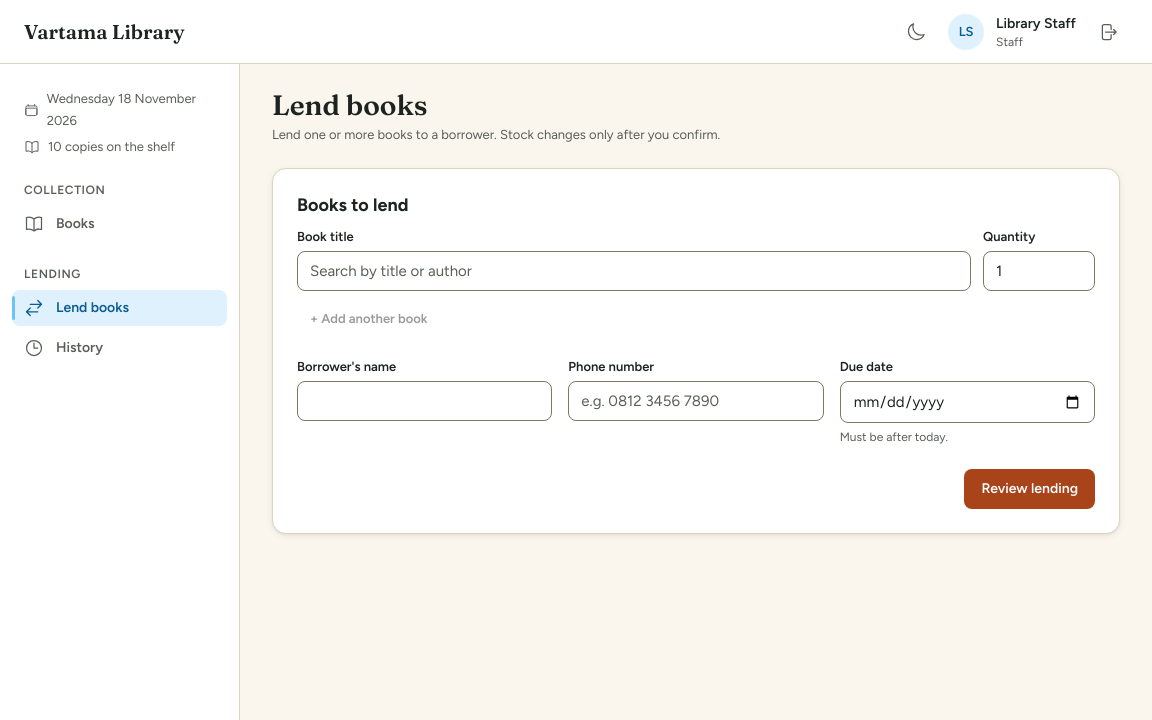
Test: Lending form (F6) › removes a line without moving the other line's book
Expected: the form named "Lend books" is shown, [272,168,1120,534]
Type "river" into the dropdown labelled "Book title".
click(634, 271); type("river")  # box [297,251,971,291]
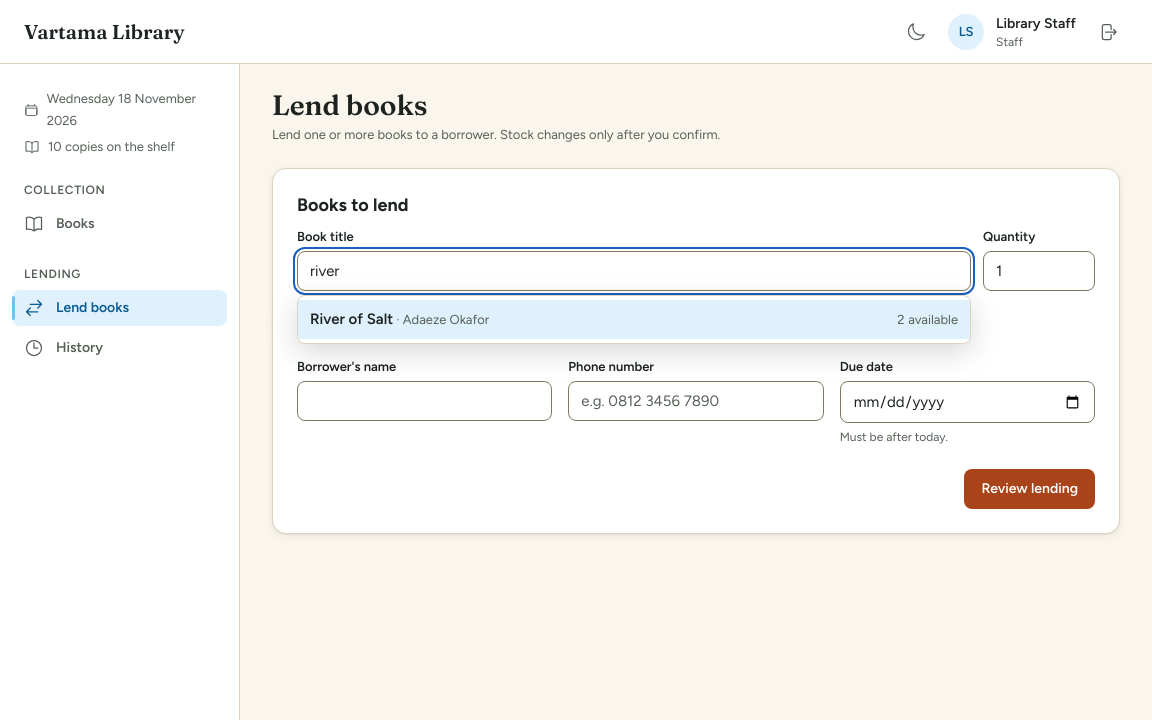
Expected: the number of options is 1
Click the option "River of Salt · Adaeze Okafor 2 available".
click(352, 319)  # box [298,300,970,339]
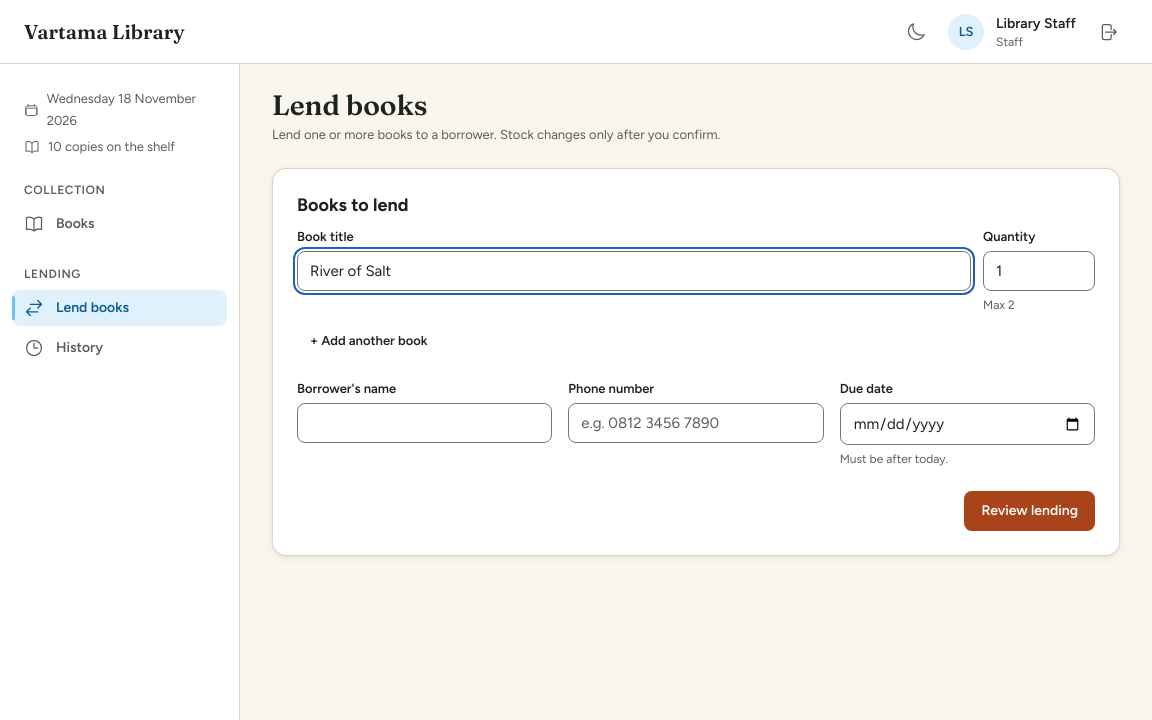
Click the button "+ Add another book".
click(369, 341)  # box [297,325,440,357]
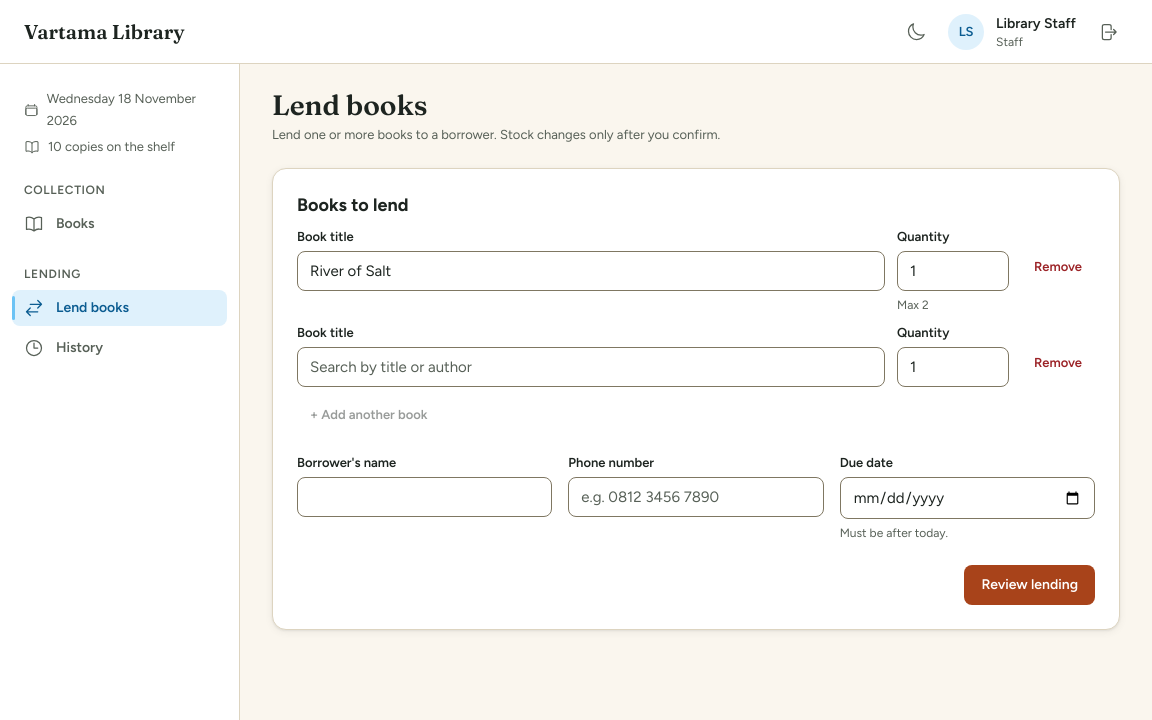
Type "harbour" into the 2nd dropdown labelled "Book title".
click(591, 367); type("harbour")  # box [297,347,885,387]
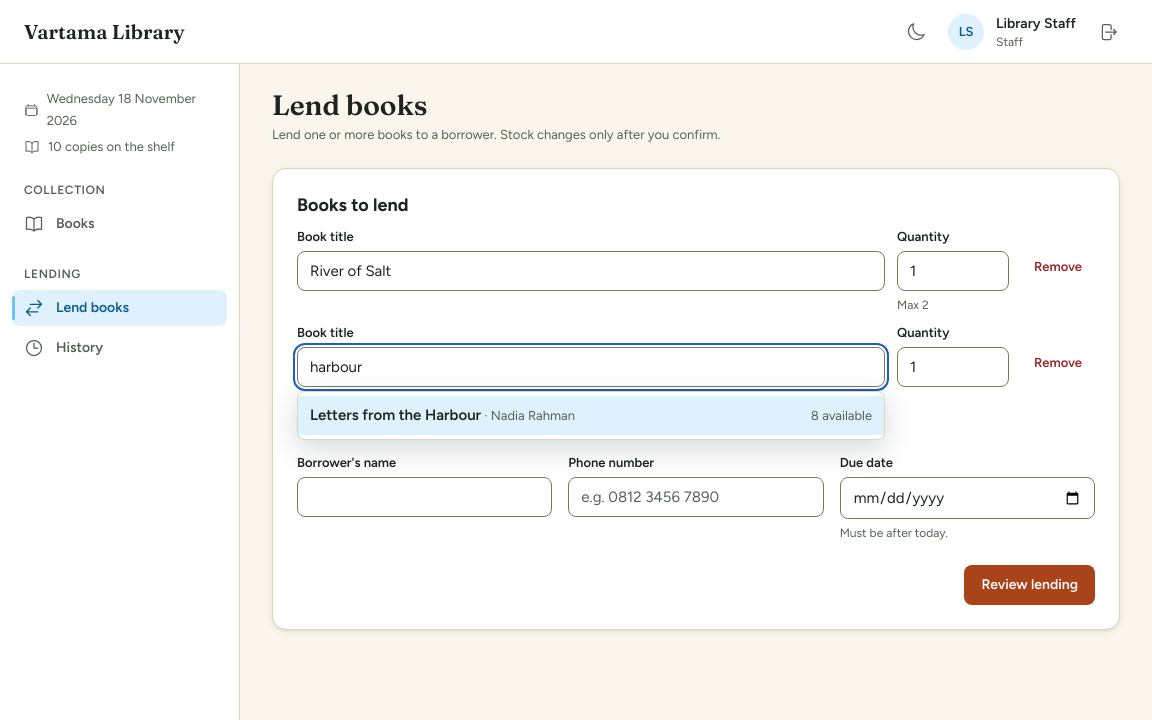
Expected: the number of options is 1
Click the option "Letters from the Harbour · Nadia Rahman 8 available".
click(396, 415)  # box [298,396,884,435]
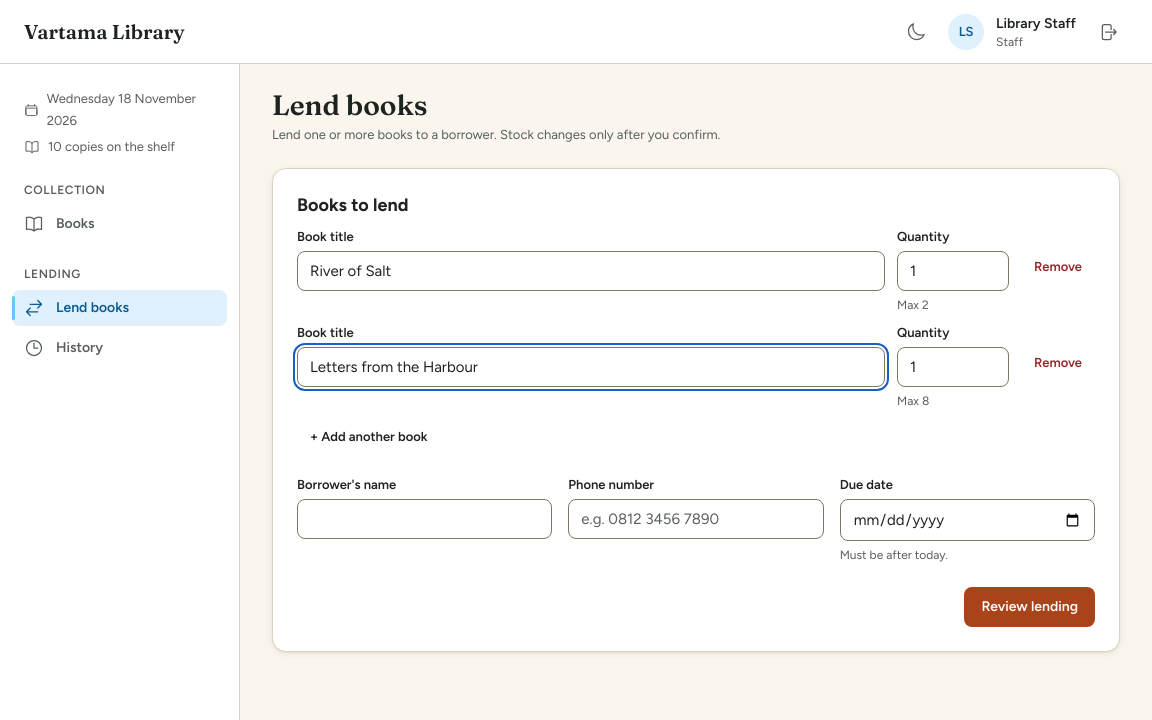
Click the button with aria-label "Remove line 1".
click(1058, 267)  # box [1021,251,1095,283]
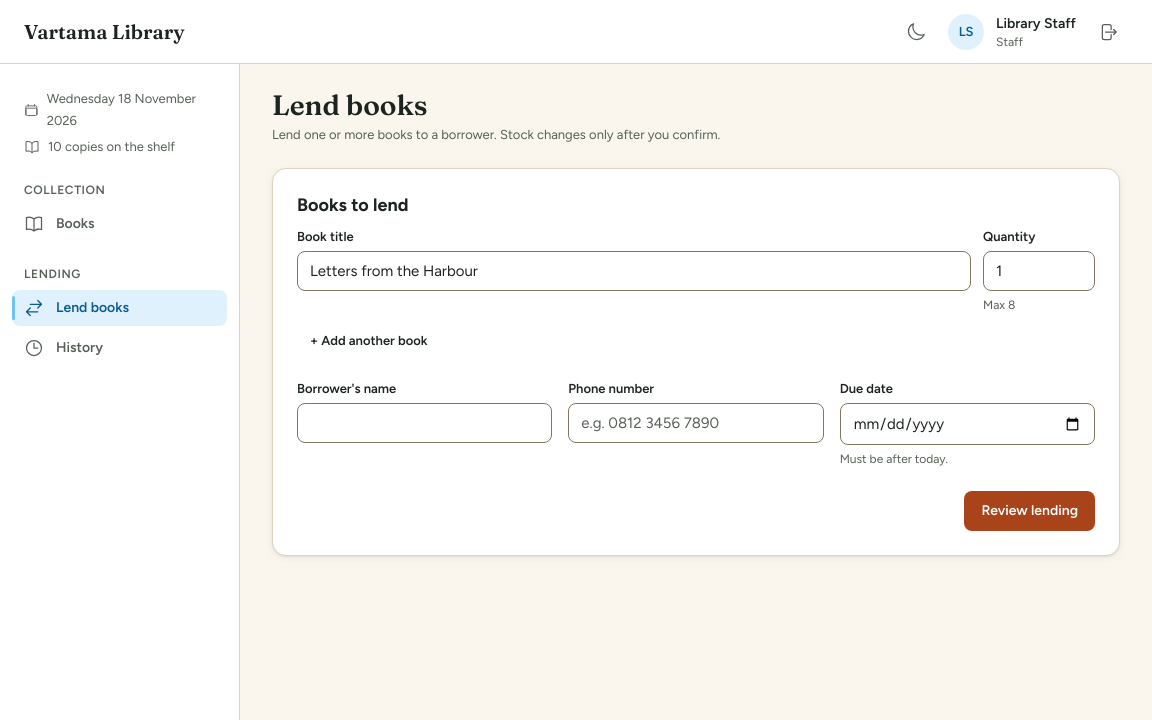
Expected: the dropdown labelled "Book title" holds "Letters from the Harbour", [297,251,971,291]
Expected: the number of elements with test id "lending-line" is 1, [297,229,1095,313]
